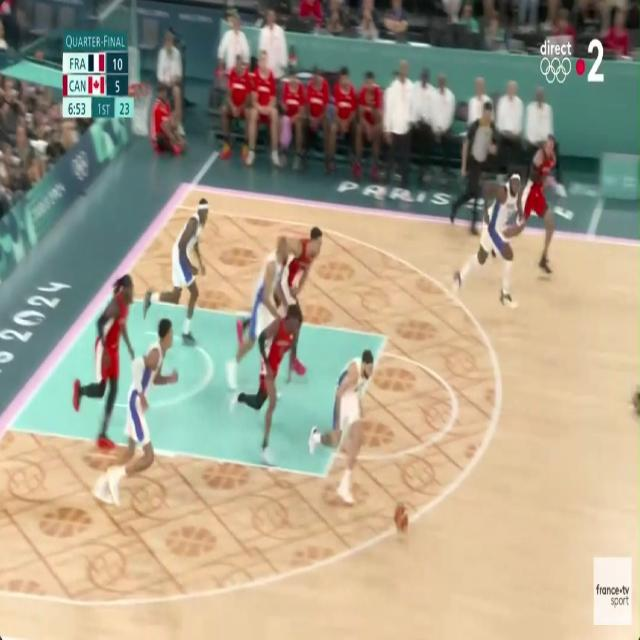ball_handler: (322, 347, 375, 509)
